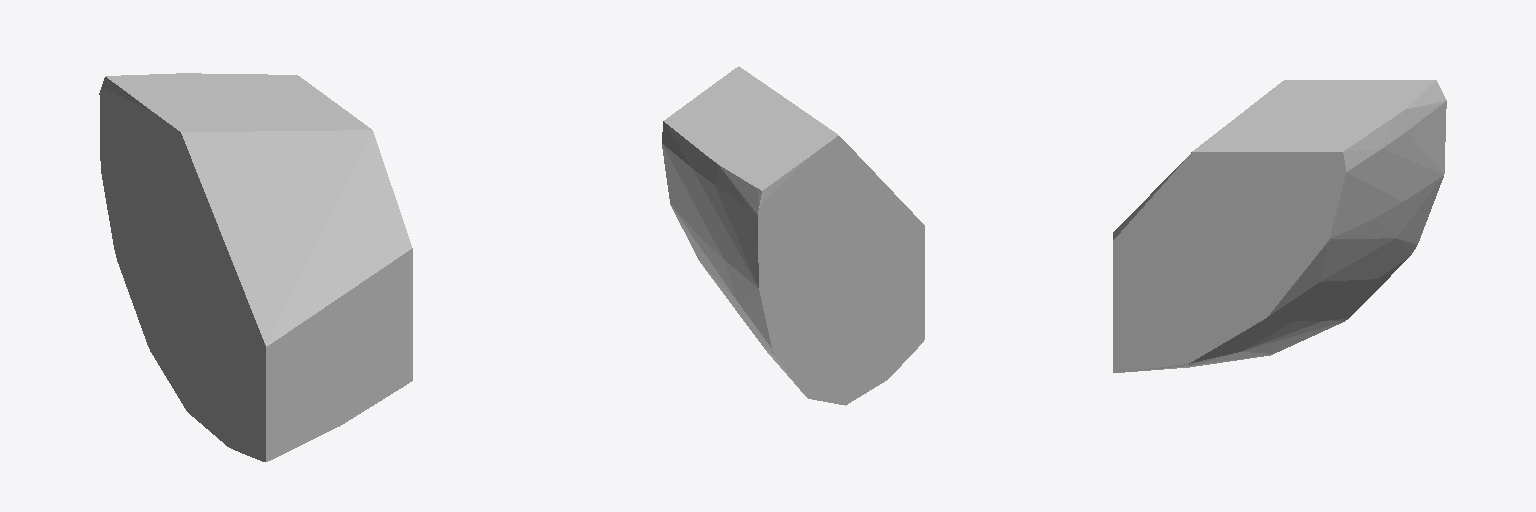
Rendered from phantom-elastrat_collision_261.obj.
3 views of the same model, side by side, from view 1: azimuth 30°, elevation 25°; view 2: azimuth 150°, elevation 25°; view 3: azimuth 270°, elevation 25° (orthographic).
Bounding box in the file's own units: 0.0024 × 0.0044 × 0.0047.